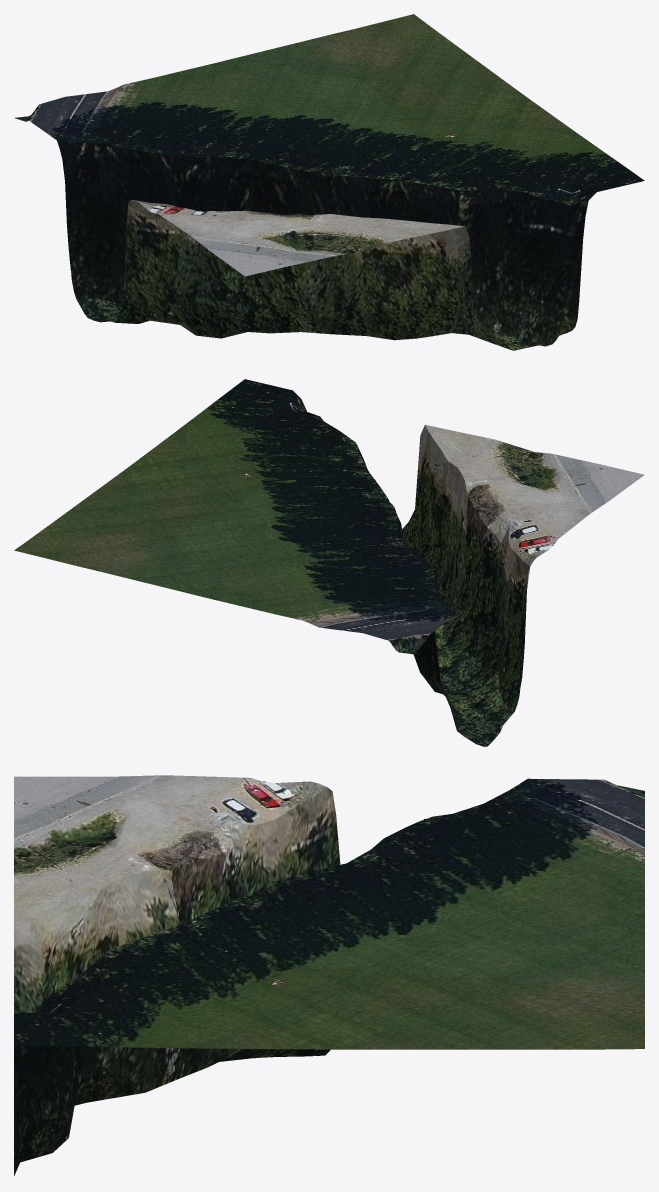
Rendered from map_15_8182_13790.dae.
3 views of the same model, one above another, from view 1: azimuth 30°, elevation 25°; view 2: azimuth 150°, elevation 25°; view 3: azimuth 270°, elevation 25° (orthographic). The views are drawn at different scales.
Parts seen in each view (by area): view 1: Ter0; view 2: Ter0; view 3: Ter0.
Boxes of the visible parts, bbox=[...] form: Ter0: bbox=[15, 14, 644, 350]; Ter0: bbox=[14, 379, 644, 746]; Ter0: bbox=[14, 775, 644, 1175].
Bounding box in the file's own units: 63.88 × 63.88 × 24.15.
Materials: 3 (3 with a texture image).
